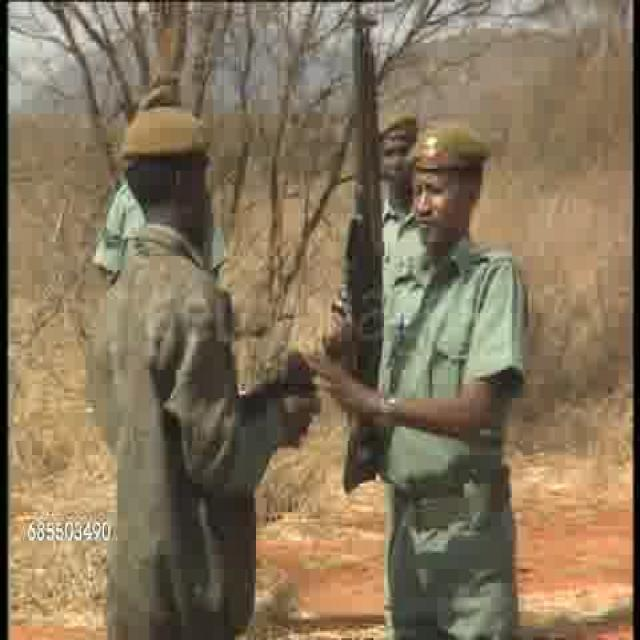poacher: (106, 106, 292, 608), (372, 123, 546, 586), (373, 118, 416, 188)
weapon: (351, 11, 376, 477)
